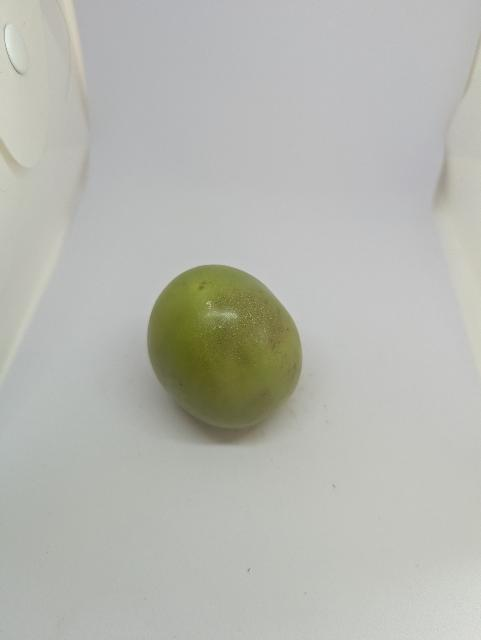green: (139, 253, 324, 450)
